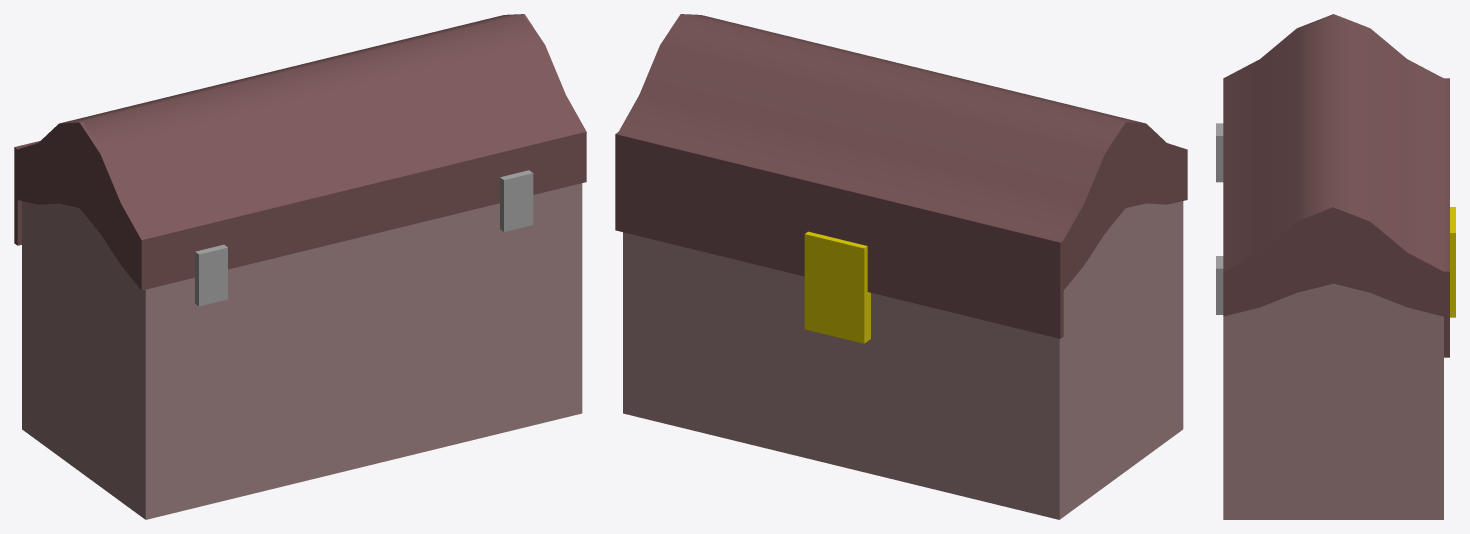
The model's file is chest.fbx.
3 views of the same model, side by side, from view 1: azimuth 30°, elevation 25°; view 2: azimuth 150°, elevation 25°; view 3: azimuth 270°, elevation 25° (orthographic). The views are drawn at different scales.
Parts seen in each view (by area): view 1: pCube1; view 2: pCube1; view 3: pCube1.
Part boxes in pixels (<box>): pCube1: <box>14,14,586,519</box>; pCube1: <box>615,14,1187,519</box>; pCube1: <box>1216,14,1455,519</box>.
Size of the model in its own units: 7.37 by 5.59 by 3.86.
